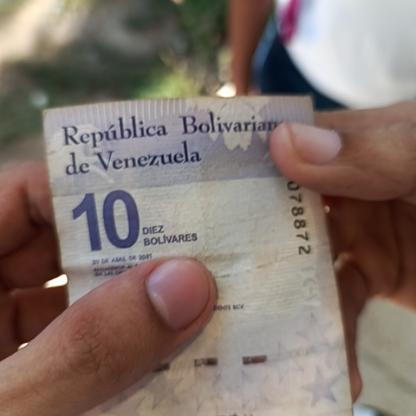ten-front-vef: (37, 94, 360, 405)
